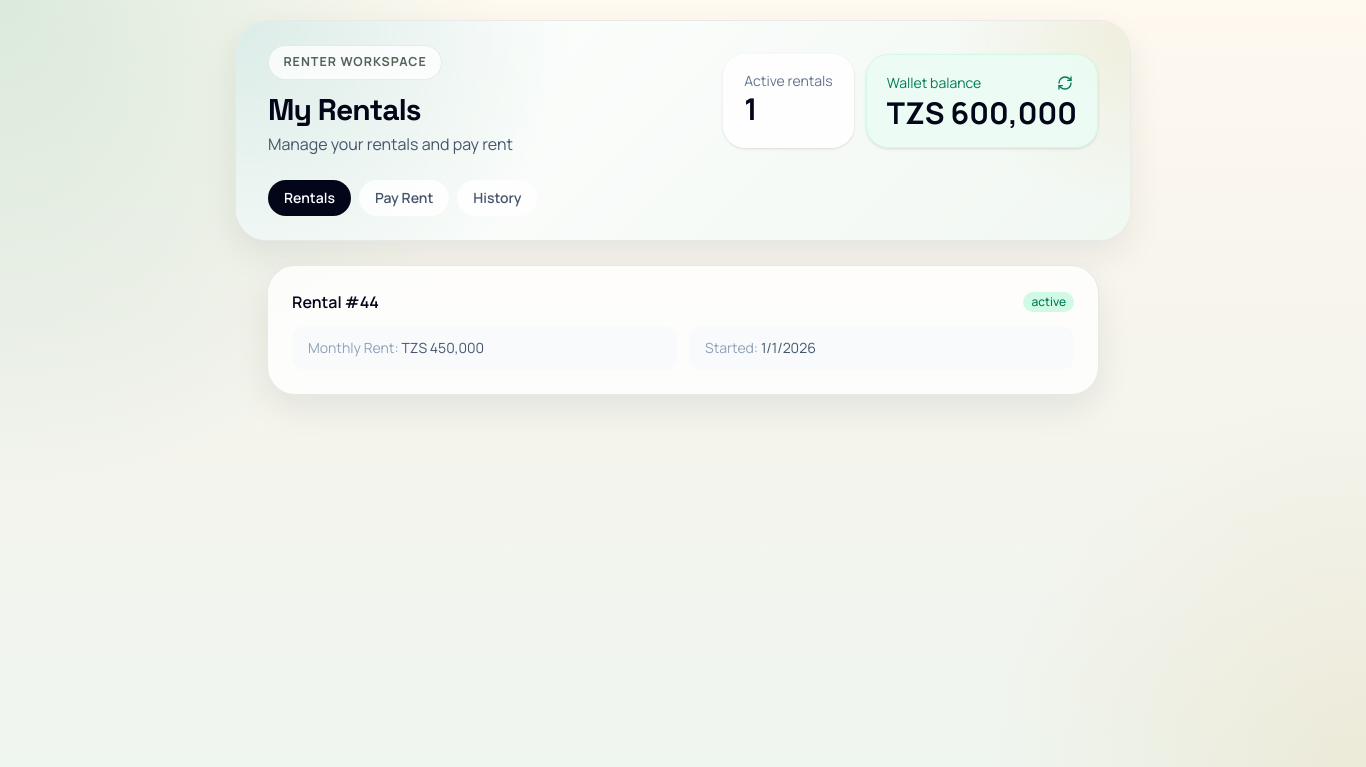
Test: MyRentals payment UX › pays rent directly from wallet balance
Click the button "pay rent".
click(404, 198)  # box left=359, top=180, right=449, bottom=216
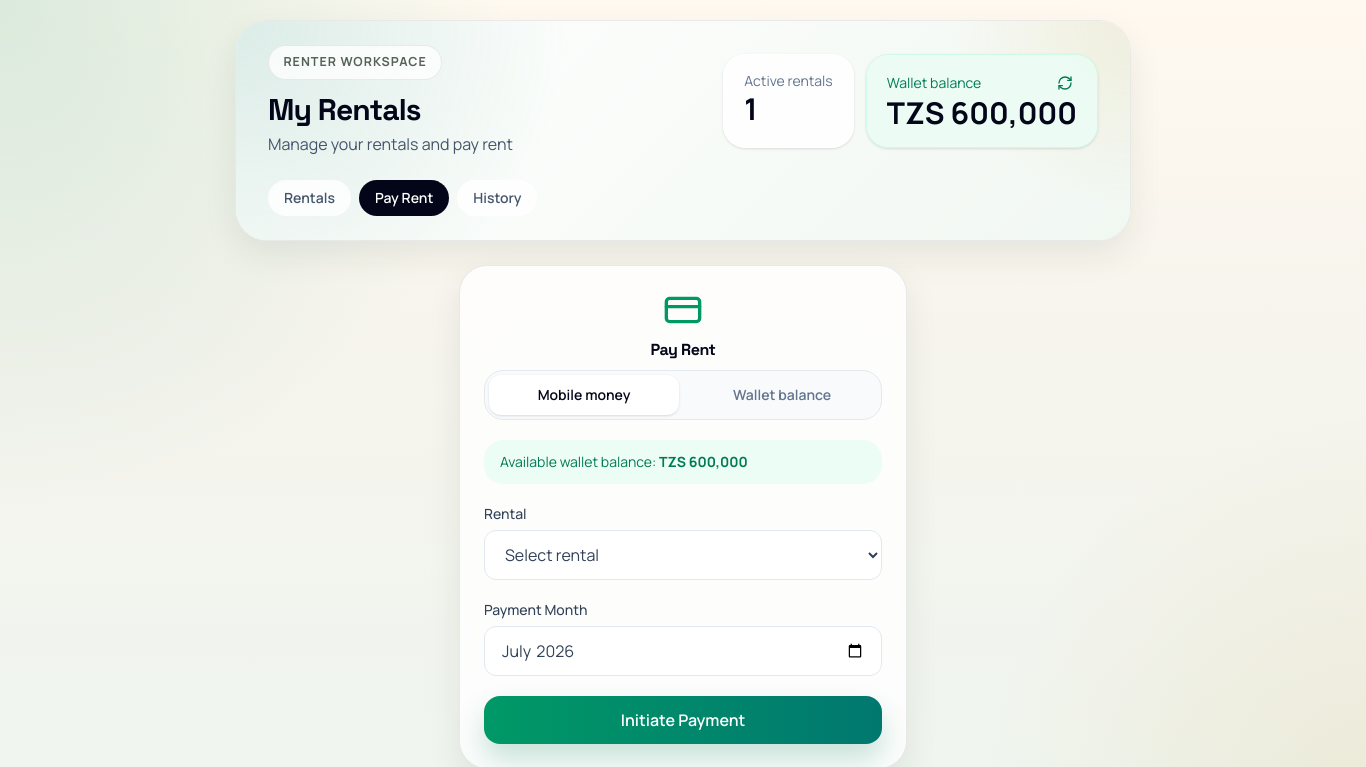
Click the button "Wallet balance".
click(782, 395)  # box left=687, top=375, right=877, bottom=415
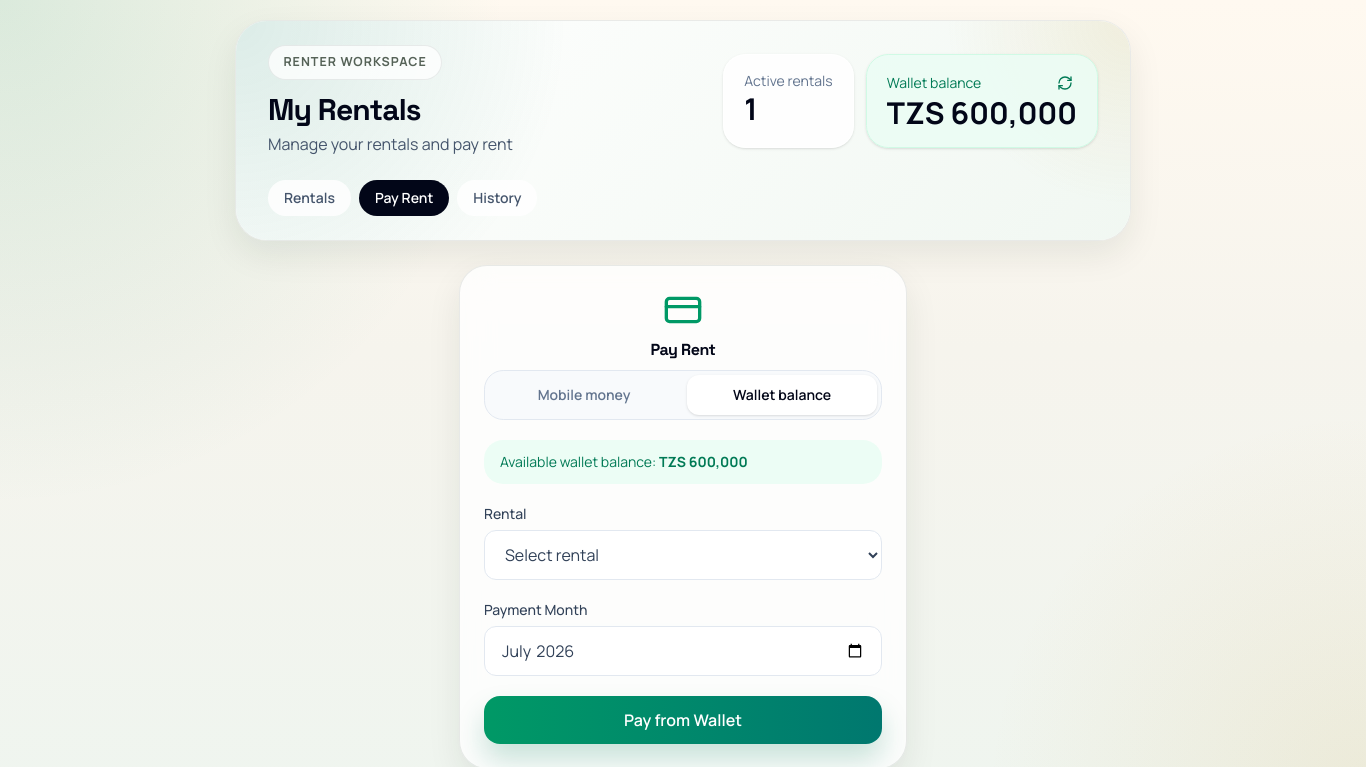
Select "Rental #44 - TZS 450,000/mo" in the dropdown at (683, 555), box left=484, top=530, right=882, bottom=580
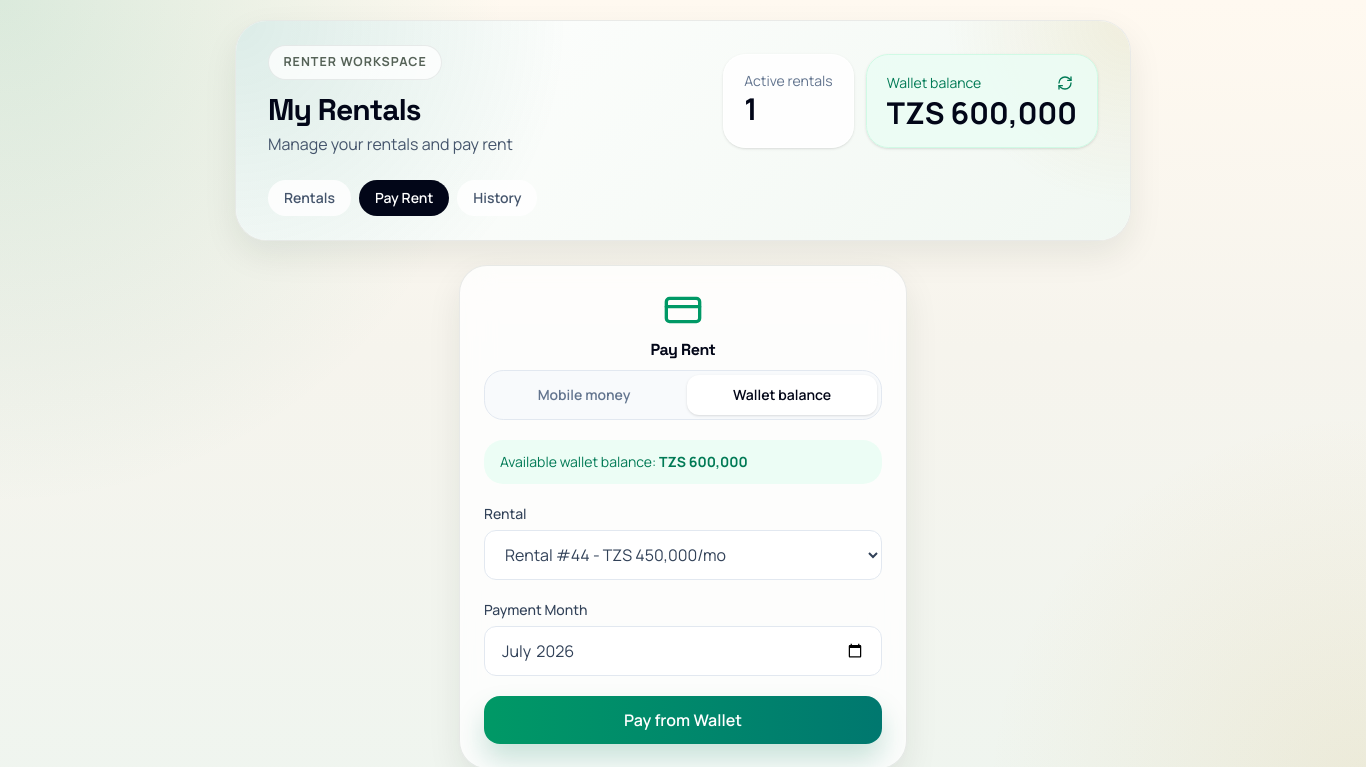
Click the button "Pay from Wallet".
click(683, 720)  # box left=484, top=696, right=882, bottom=744
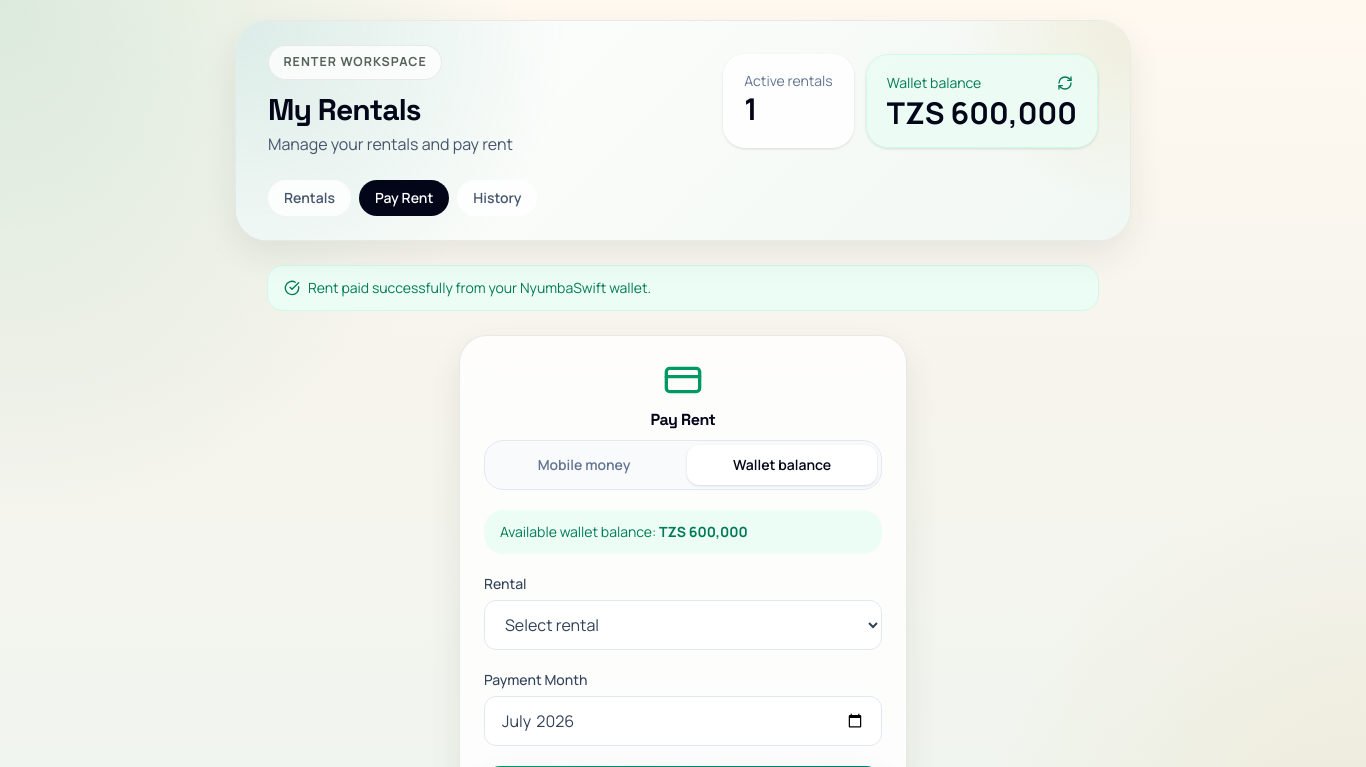
Expected: the text "Rent paid successfully from your NyumbaSwift wallet." is shown, left=308, top=278, right=651, bottom=298
